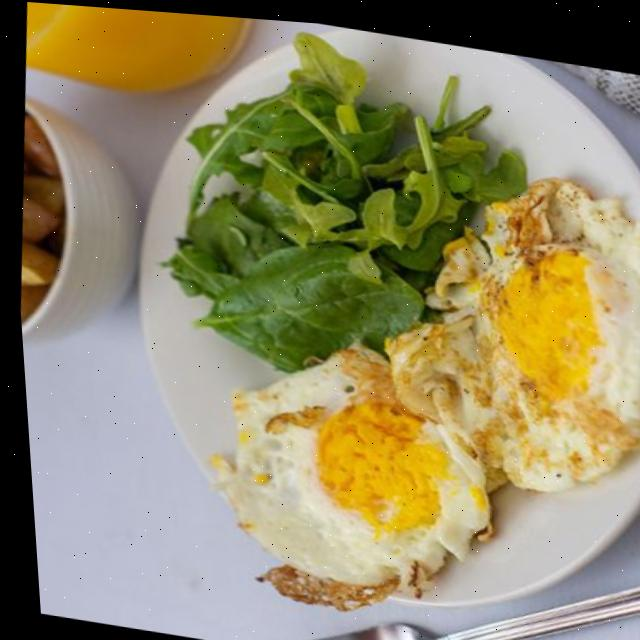Egg: (382, 169, 640, 482), (203, 338, 483, 604)
